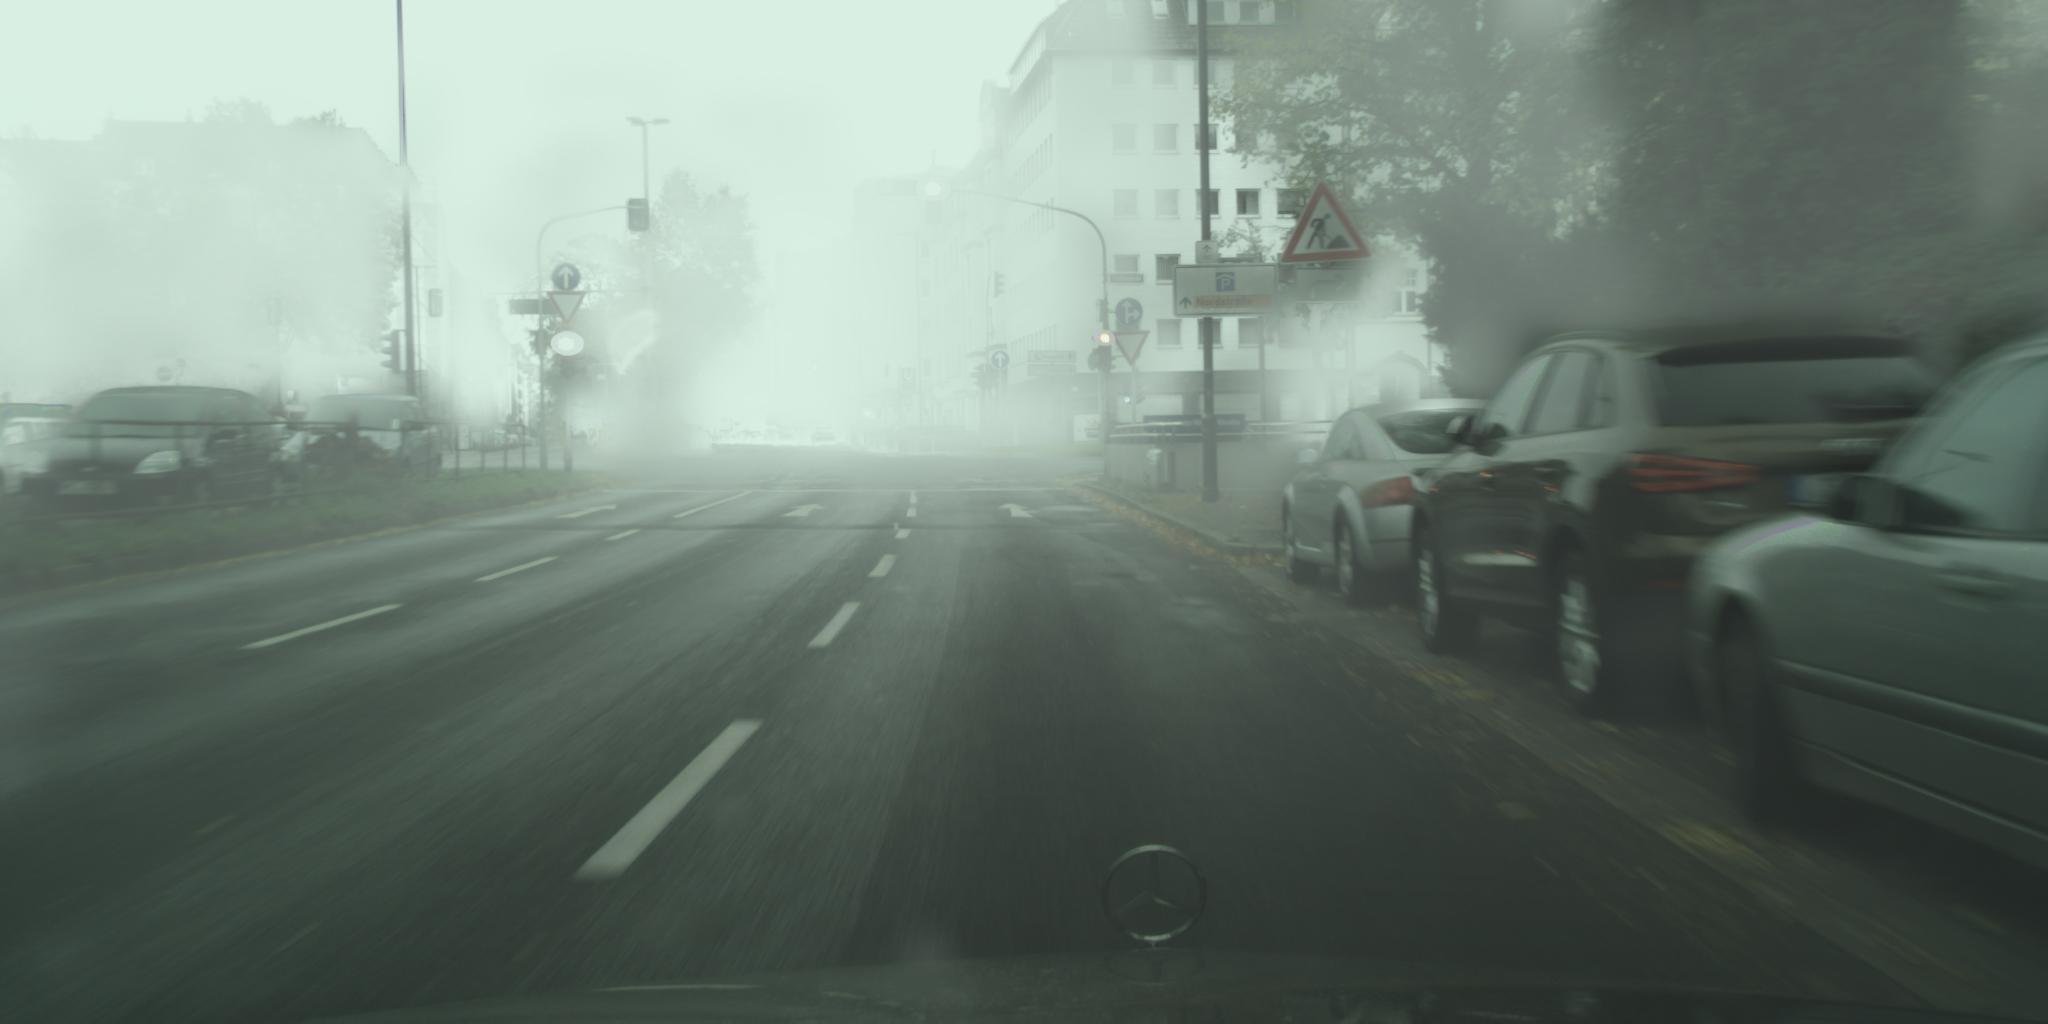car: (1411, 319, 1981, 720), (1682, 328, 2048, 871), (1280, 398, 1505, 611), (21, 387, 287, 522), (272, 394, 443, 492), (1, 404, 64, 498), (37, 406, 89, 451), (775, 426, 801, 448)
